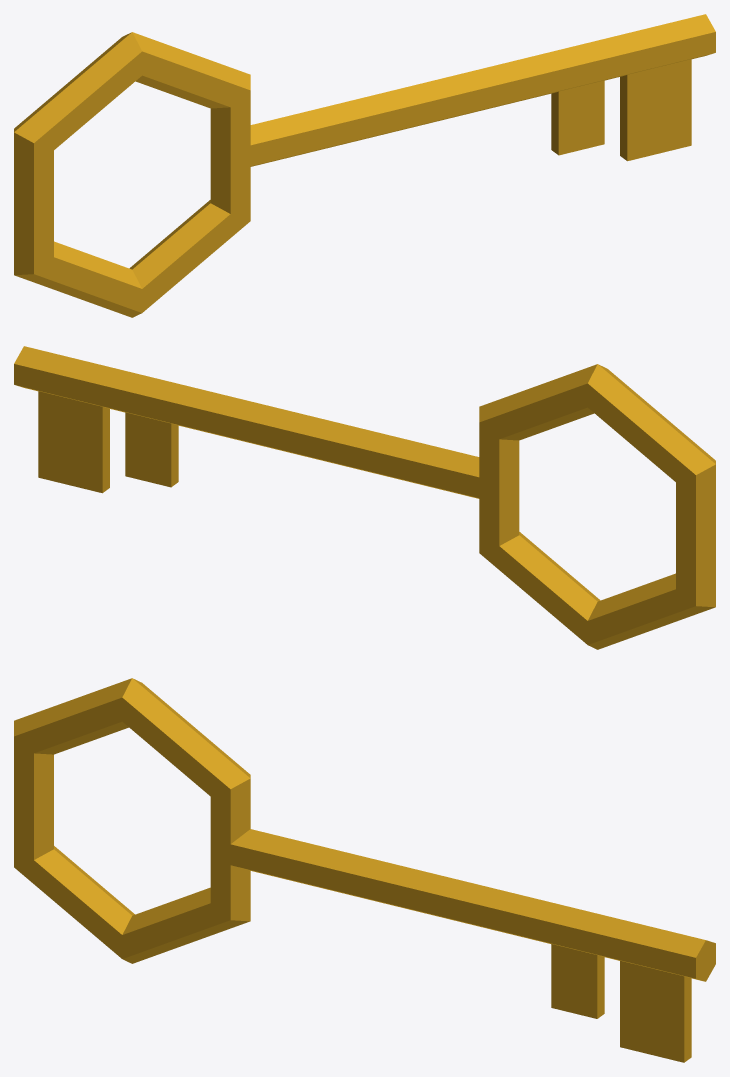
The model's file is Proto_Key_01.fbx.
The picture shows the model from 3 angles, top to bottom: view 1: azimuth 30°, elevation 25°; view 2: azimuth 150°, elevation 25°; view 3: azimuth 330°, elevation 25°; orthographic projection.
Visible parts, largest first — view 1: Proto_Key_01; view 2: Proto_Key_01; view 3: Proto_Key_01.
Part boxes in pixels (bbox=[...]): Proto_Key_01: bbox=[14, 14, 715, 317]; Proto_Key_01: bbox=[14, 346, 715, 649]; Proto_Key_01: bbox=[14, 678, 715, 1062].
Bounding box in the file's own units: 0.221 × 0.0872 × 0.0111.
